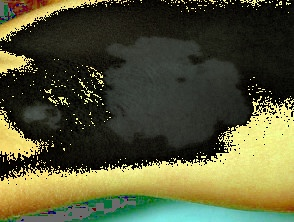vitiligo: (14, 25, 273, 169)
